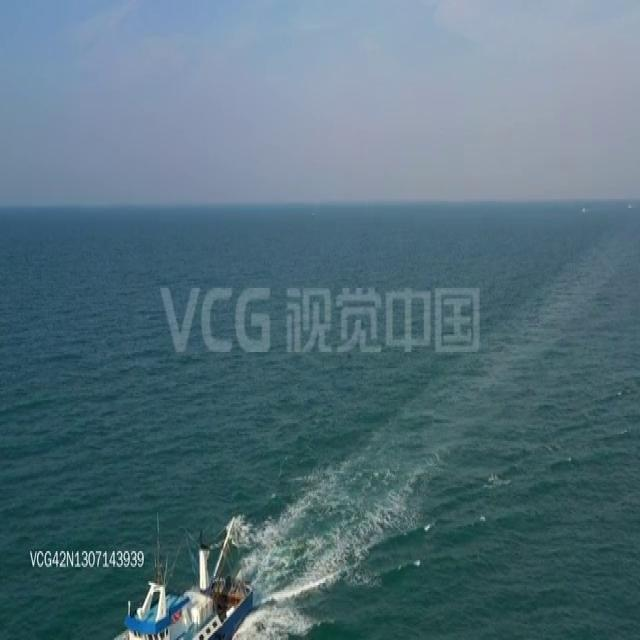houseboat: (110, 520, 255, 640)
